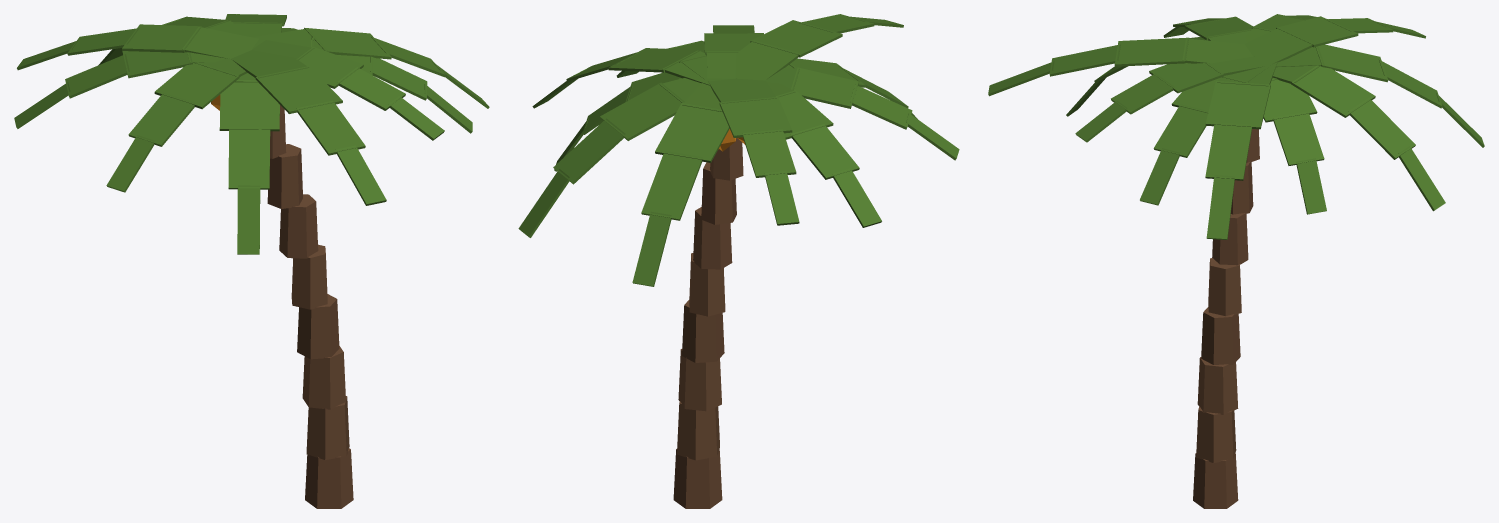
Rendered from palm_a.glb.
The picture shows the model from 3 angles, left to right: view 1: azimuth 30°, elevation 25°; view 2: azimuth 150°, elevation 25°; view 3: azimuth 270°, elevation 25°; orthographic projection. The views are drawn at different scales.
Visible parts, largest first — view 1: Palm; view 2: Palm; view 3: Palm.
Boxes of the visible parts, bbox=[...] form: Palm: bbox=[14, 14, 489, 508]; Palm: bbox=[518, 14, 959, 508]; Palm: bbox=[988, 14, 1484, 508].
Size of the model in its own units: 6.92 by 7.39 by 7.86.
